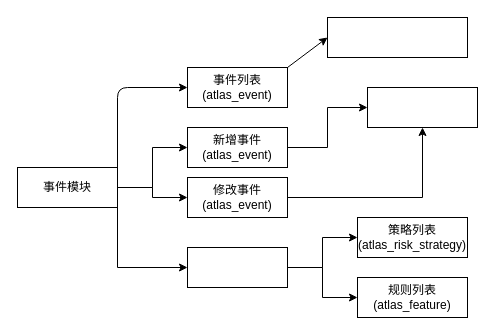
This 495x335 diagram has some shape labels left out. The shapes that lost their labels are listed below. From the top down, each one's centre as x and y in pixels, then its label:
(397,37): 指标模块 - 事件指标
(422,107): 决策模块(atlas_risk_strategy)
(237,267): 事件详情(atlas_event)
